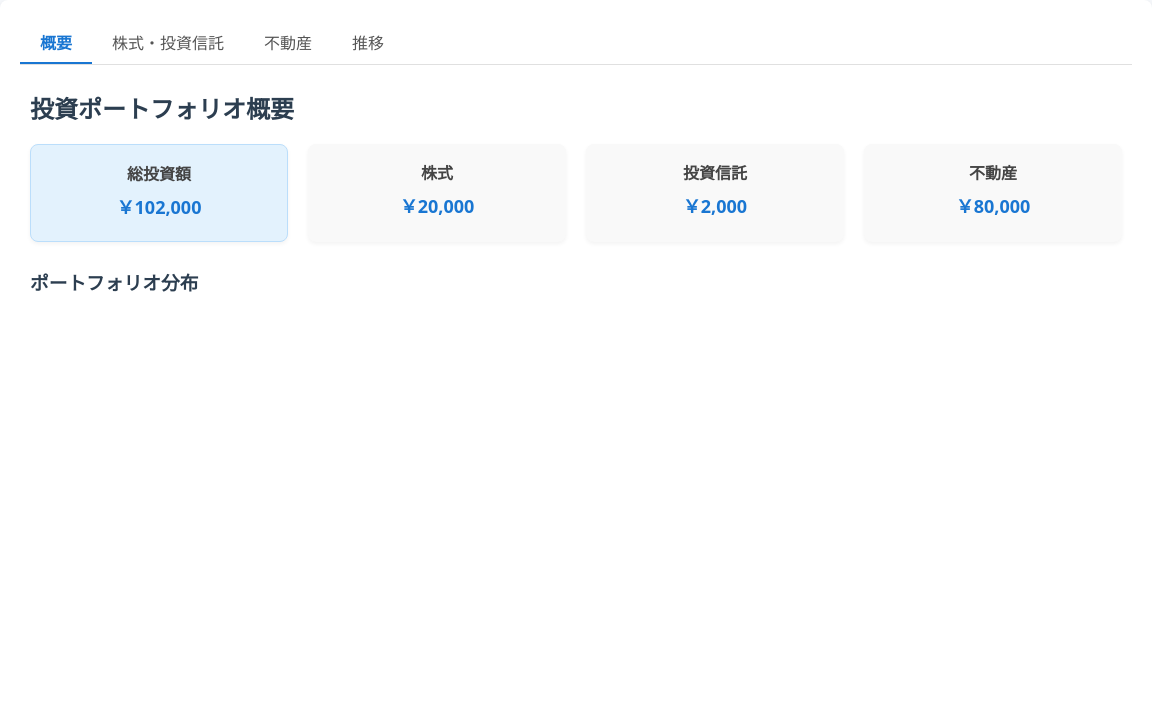
Test case: InvestmentView › タブ切り替えが正しく動作する
Expected: the heading "投資ポートフォリオ概要" is shown, [30, 92, 294, 125]
Expected: the text "株式・投資信託詳細" is not shown
Note: 「株式・投資信託」タブをクリック
Click the button "株式・投資信託" at point(168, 42), box [92, 20, 244, 64]
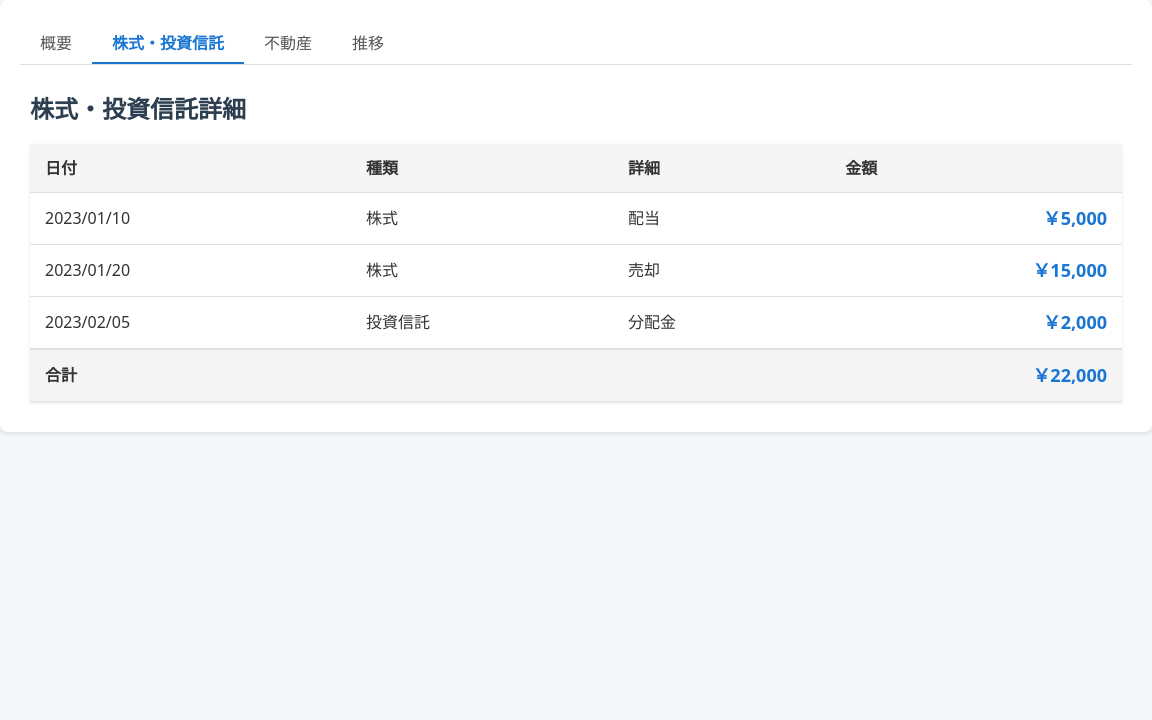
Result: the heading "投資ポートフォリオ概要" is gone
Result: the heading "株式・投資信託詳細" is shown at [30, 92, 246, 125]
Note: 「不動産」タブをクリック（ボタン要素に限定）
Click the button "不動産" at point(288, 42), box [244, 20, 332, 64]
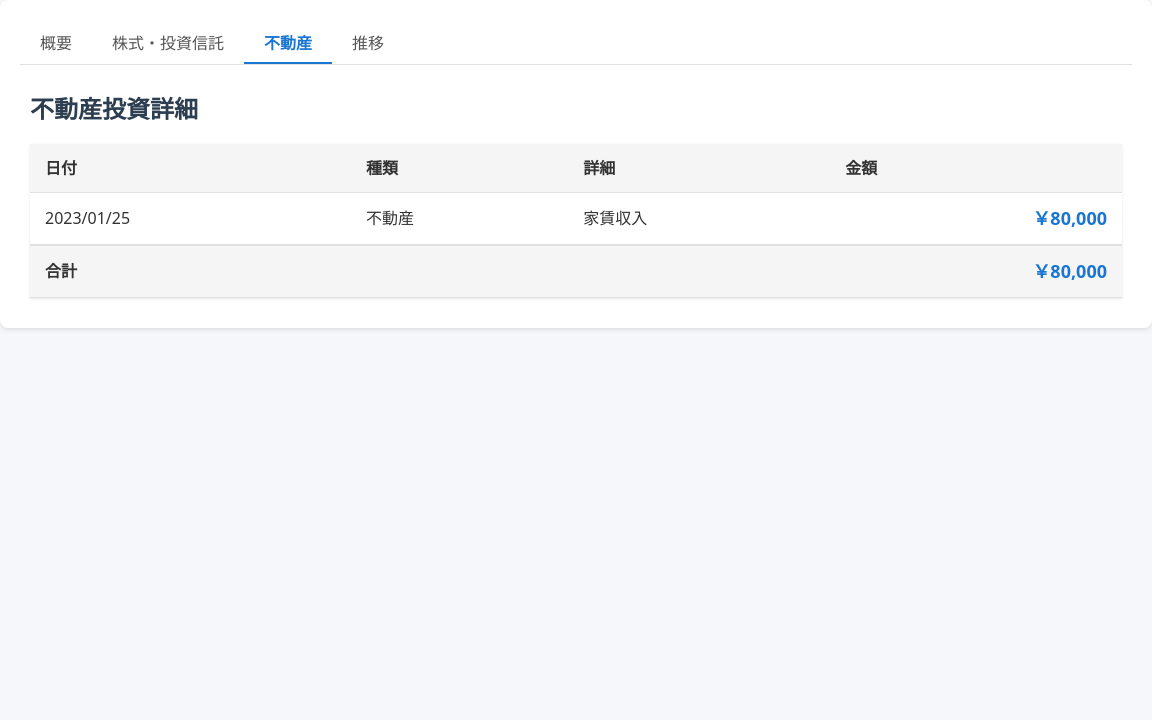
Result: the heading "株式・投資信託詳細" is gone
Result: the heading "不動産投資詳細" is shown at [30, 92, 198, 125]
Note: 「推移」タブをクリック
Click the button "推移" at point(368, 42), box [332, 20, 404, 64]
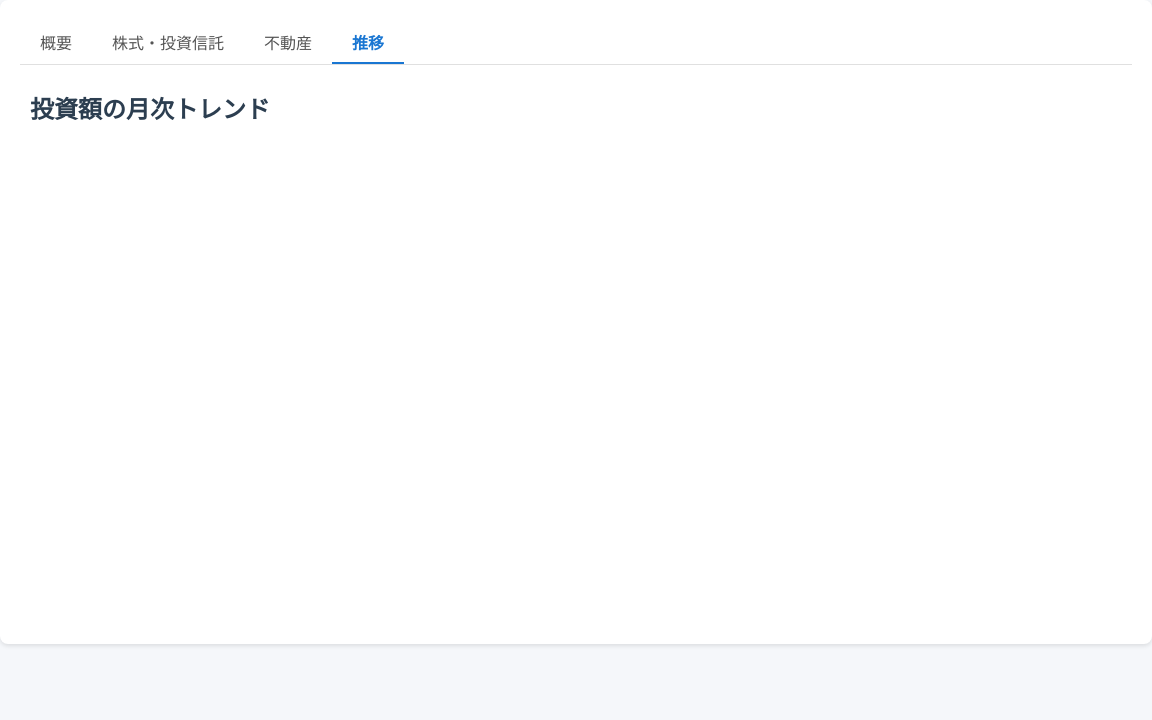
Result: the heading "不動産投資詳細" is gone
Result: the heading "投資額の月次トレンド" is shown at [30, 92, 270, 125]
Note: 「概要」タブをクリックして戻る
Click the button "概要" at point(56, 42), box [20, 20, 92, 64]
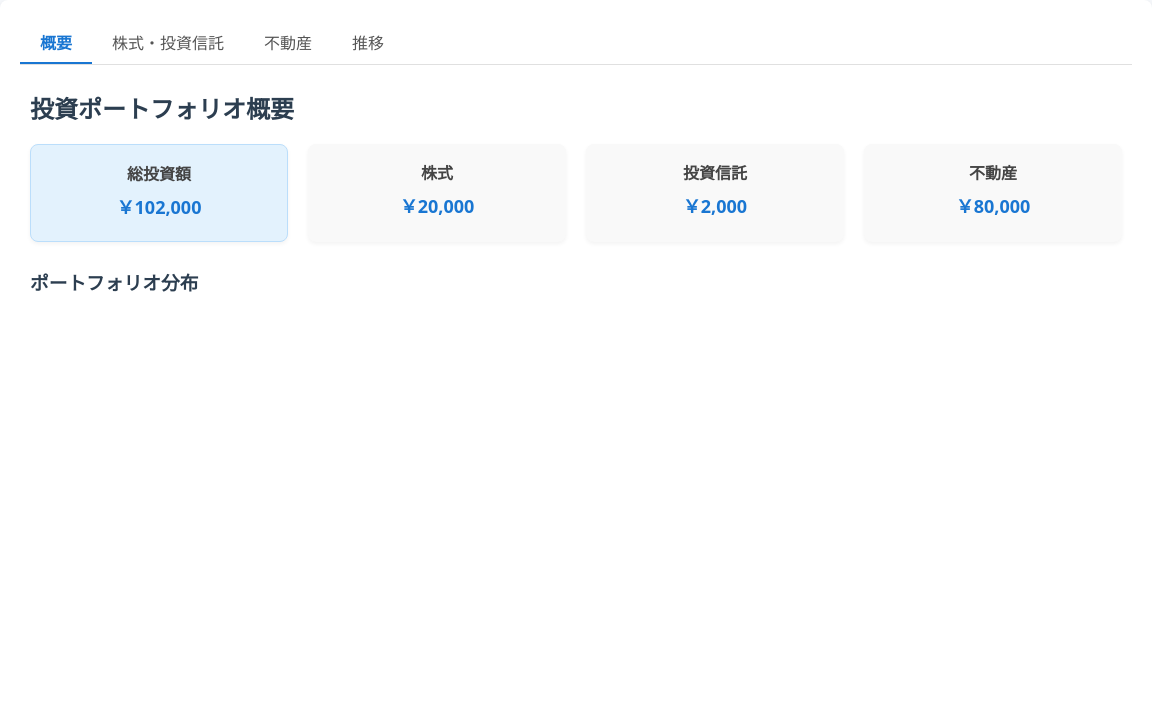
Result: the heading "投資額の月次トレンド" is gone
Result: the heading "投資ポートフォリオ概要" is shown at [30, 92, 294, 125]
